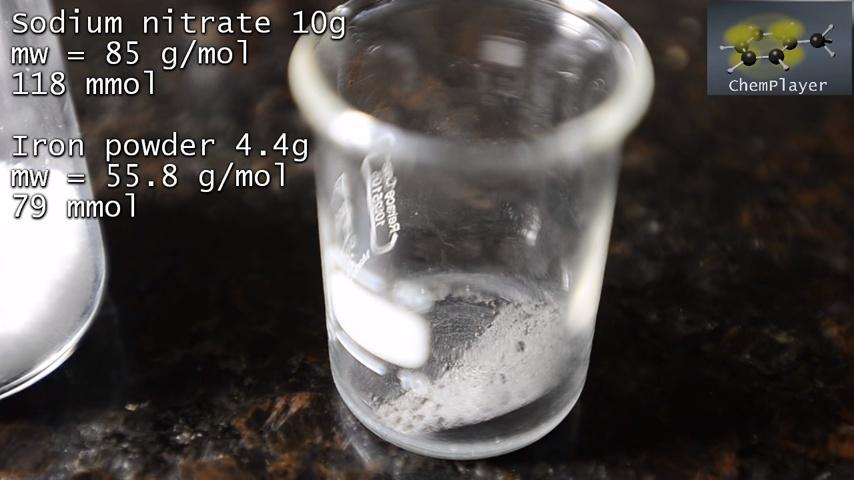Beaker: (294, 2, 694, 453)
